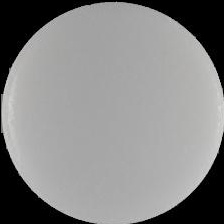35356-690: (0, 0, 224, 224)
